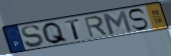M: (101, 10, 134, 36)
Q: (41, 21, 70, 45)
R: (83, 15, 109, 39)
S: (20, 24, 45, 49), (127, 7, 150, 31)
T: (64, 18, 81, 41)
